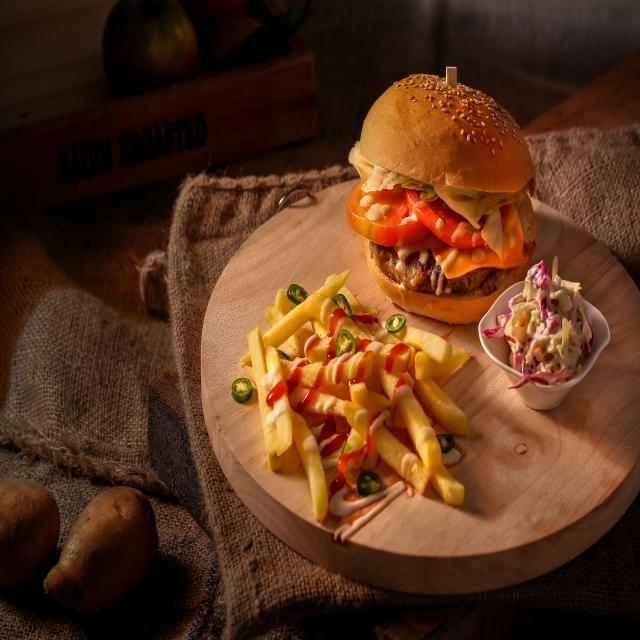Dish: (488, 238, 628, 432)
